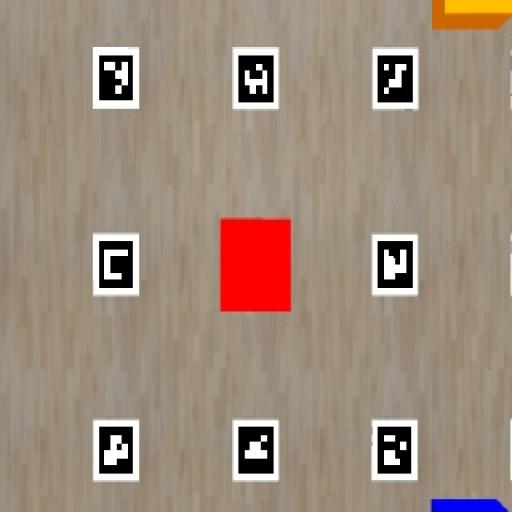car: (431, 498, 508, 511)
fire: (221, 218, 291, 311), (431, 0, 511, 29)
